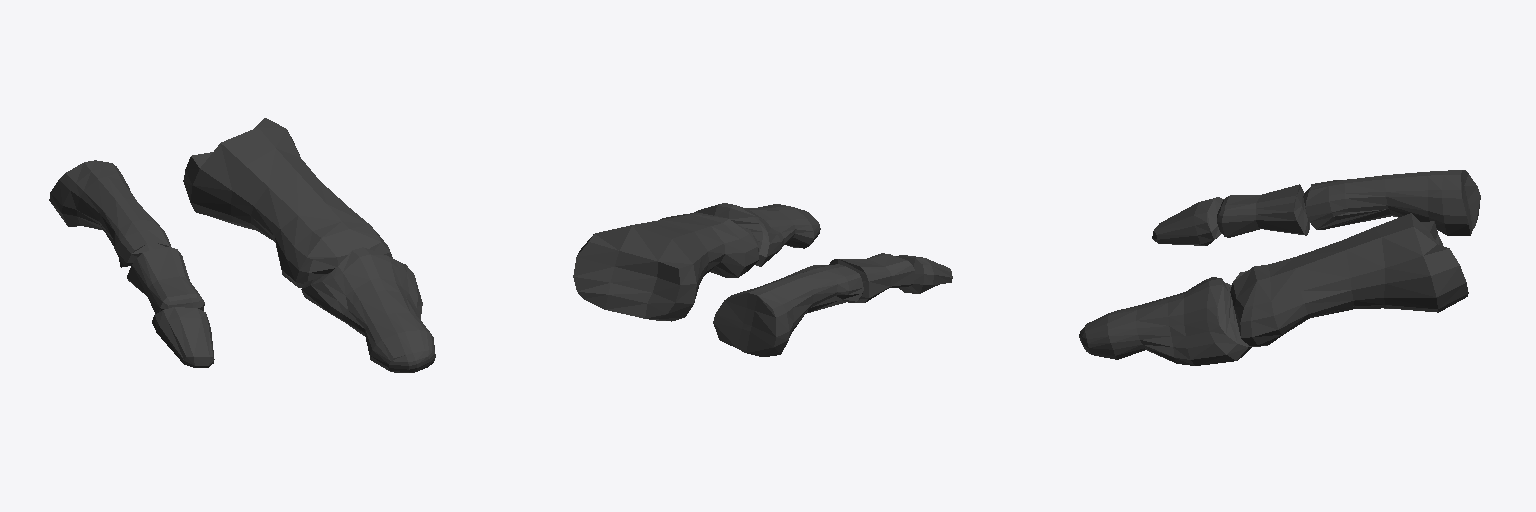
File: R_FootThumb.obj
The picture shows the model from 3 angles: view 1: azimuth 30°, elevation 25°; view 2: azimuth 150°, elevation 25°; view 3: azimuth 270°, elevation 25°; orthographic projection.
Bounding box in the file's own units: 0.0465 × 0.0212 × 0.0613.